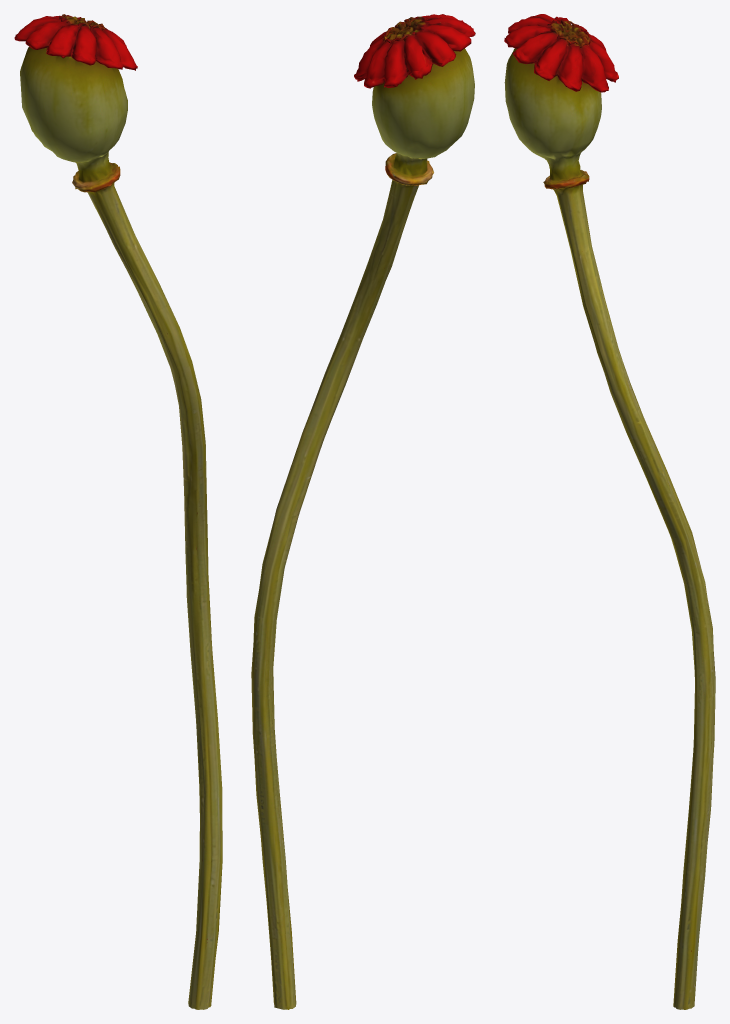
File: flower-05.glb
3 renders of one model, left to right at view 1: azimuth 30°, elevation 25°; view 2: azimuth 150°, elevation 25°; view 3: azimuth 330°, elevation 25°, orthographic. The views are drawn at different scales.
Parts seen in each view (by area): view 1: tripo_node_1f35046a-41fa-4d77-b9cd-5b1e120a2d86; view 2: tripo_node_1f35046a-41fa-4d77-b9cd-5b1e120a2d86; view 3: tripo_node_1f35046a-41fa-4d77-b9cd-5b1e120a2d86.
Part boxes in pixels (x1,y1,x2,y2): tripo_node_1f35046a-41fa-4d77-b9cd-5b1e120a2d86: (14, 14, 222, 1009); tripo_node_1f35046a-41fa-4d77-b9cd-5b1e120a2d86: (251, 14, 475, 1009); tripo_node_1f35046a-41fa-4d77-b9cd-5b1e120a2d86: (504, 14, 715, 1009).
Bounding box in the file's own units: 0.2051 × 0.998 × 0.1113.
Materials: 1 (1 with a texture image).
